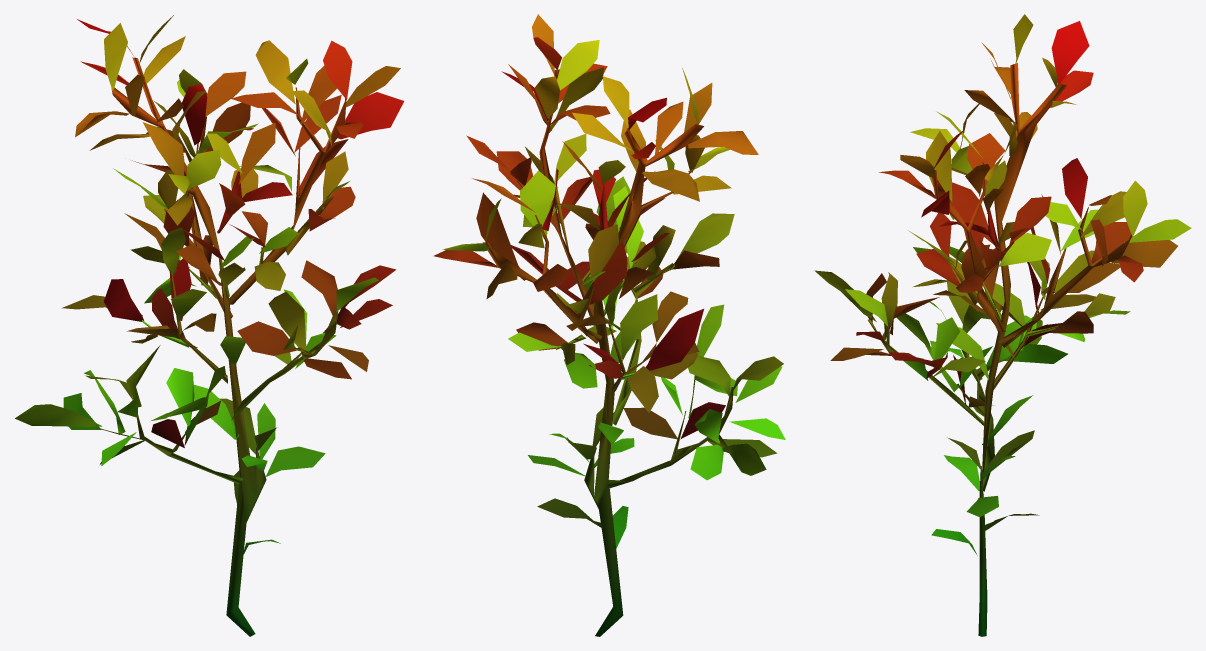
File: SM_OW_Shrub_d_LOD1.fbx
3 views of the same model, side by side, from view 1: azimuth 30°, elevation 25°; view 2: azimuth 150°, elevation 25°; view 3: azimuth 270°, elevation 25° (orthographic). The views are drawn at different scales.
Visible parts, largest first — view 1: SM_OW_Shrub_d_LOD1; view 2: SM_OW_Shrub_d_LOD1; view 3: SM_OW_Shrub_d_LOD1.
Part boxes in pixels (bbox=[...]): SM_OW_Shrub_d_LOD1: bbox=[15, 15, 404, 636]; SM_OW_Shrub_d_LOD1: bbox=[433, 14, 785, 636]; SM_OW_Shrub_d_LOD1: bbox=[814, 14, 1191, 636].
Bounding box in the file's own units: 0.1558 × 0.281 × 0.1673.
